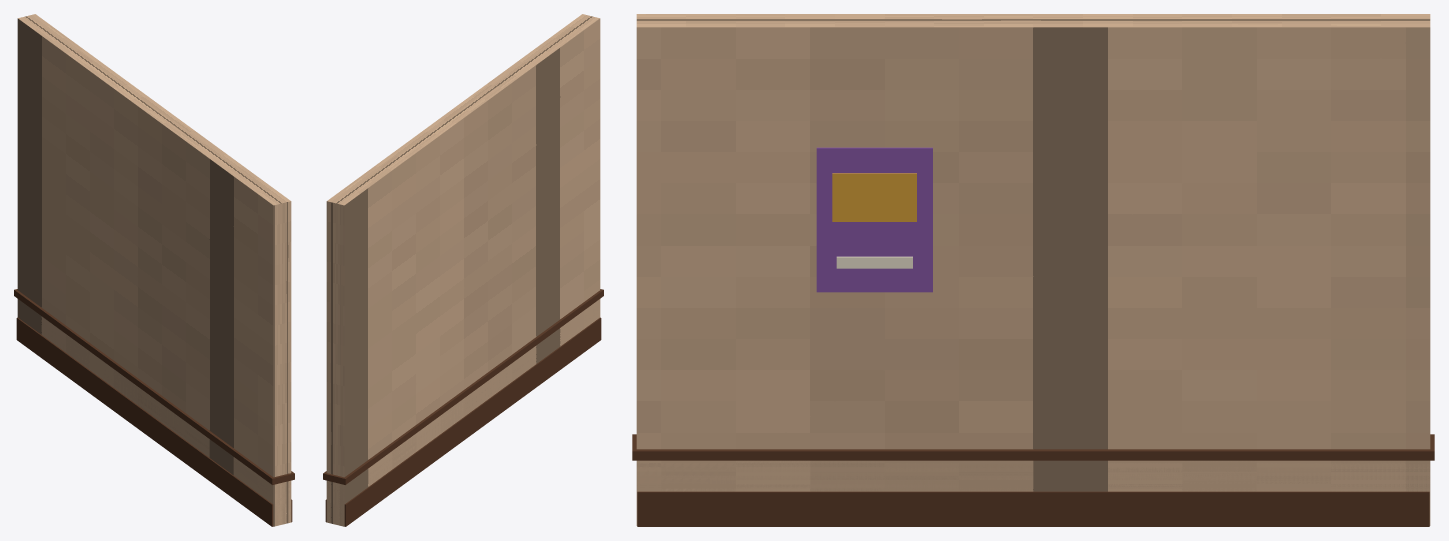
File: back2.glb
3 views of the same model, side by side, from view 1: azimuth 30°, elevation 25°; view 2: azimuth 150°, elevation 25°; view 3: azimuth 270°, elevation 25° (orthographic). The views are drawn at different scales.
Visible parts, largest first — view 1: Box1, Box2, Box6, Box7; view 2: Box1, Box2, Box7, Box6; view 3: Box1, Box2, Box6, Box3, Box7, Box4, Box5.
Boxes of the visible parts, left/top/right/bottom form: Box1: left=17, top=14, right=291, bottom=526; Box2: left=16, top=317, right=292, bottom=526; Box6: left=19, top=302, right=291, bottom=526; Box7: left=14, top=289, right=294, bottom=484; Box1: left=326, top=14, right=600, bottom=526; Box2: left=325, top=317, right=601, bottom=526; Box7: left=323, top=289, right=603, bottom=484; Box6: left=326, top=304, right=598, bottom=526; Box1: left=636, top=14, right=1430, bottom=525; Box2: left=637, top=491, right=1429, bottom=526; Box6: left=636, top=460, right=1430, bottom=524; Box3: left=816, top=147, right=932, bottom=292; Box7: left=632, top=434, right=1434, bottom=460; Box4: left=832, top=173, right=916, bottom=221; Box5: left=836, top=256, right=912, bottom=268.
Size of the model in its own units: 0.19 by 2.6 by 3.79.
Materials: 5 (1 with a texture image).
